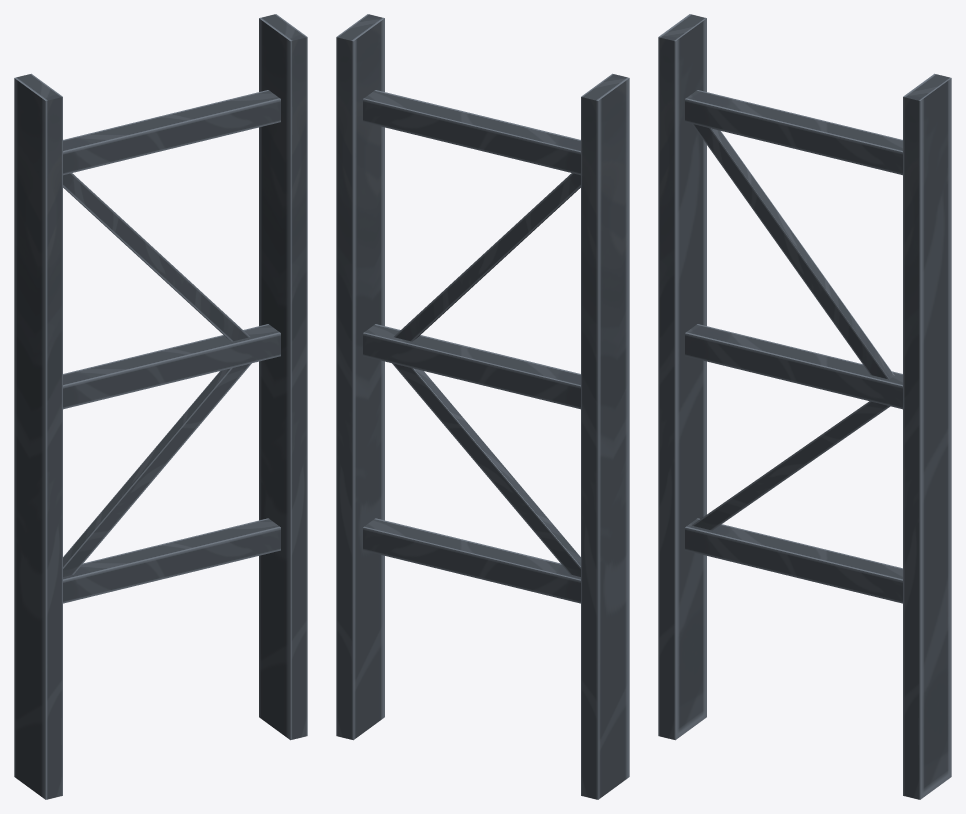
Rendered from jiedao_BJ_014.fbx.
The picture shows the model from 3 angles, left to right: view 1: azimuth 30°, elevation 25°; view 2: azimuth 150°, elevation 25°; view 3: azimuth 330°, elevation 25°; orthographic projection.
Visible parts, largest first — view 1: BJ014; view 2: BJ014; view 3: BJ014.
Part boxes in pixels (box(x1,y1,x2,y2)): BJ014: box(14, 14, 307, 799); BJ014: box(336, 14, 629, 799); BJ014: box(658, 14, 951, 799).
Bounding box in the file's own units: 109 × 22.84 × 279.
